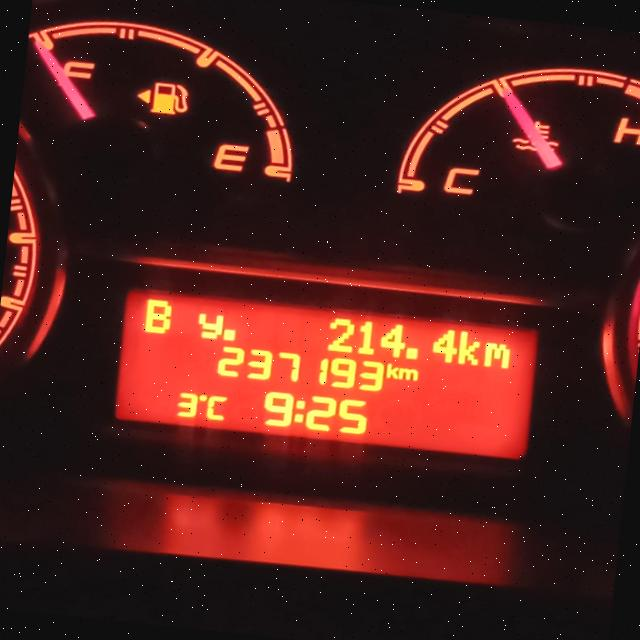odometer: (107, 284, 544, 466)
